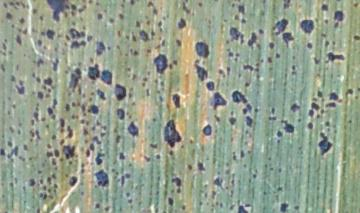tarspot: (161, 119, 183, 149), (43, 1, 69, 23), (316, 130, 333, 156), (152, 52, 168, 75), (208, 91, 227, 110), (227, 26, 246, 45), (271, 18, 289, 36), (93, 169, 110, 188), (112, 82, 128, 102), (193, 40, 210, 58), (230, 89, 248, 106), (247, 30, 261, 51), (278, 118, 295, 134), (87, 62, 100, 82), (299, 19, 315, 35), (126, 120, 140, 138), (281, 31, 295, 49), (325, 51, 345, 63), (99, 68, 113, 85), (194, 64, 208, 81), (61, 144, 75, 160), (67, 73, 78, 93), (68, 38, 87, 49), (170, 92, 182, 109), (94, 40, 105, 57), (86, 103, 100, 116), (200, 123, 213, 137), (94, 151, 105, 167), (332, 9, 345, 22), (95, 88, 107, 102), (13, 83, 26, 95), (13, 31, 23, 46), (322, 101, 337, 111), (212, 175, 224, 187), (278, 201, 290, 213), (68, 27, 81, 38), (115, 108, 126, 121), (138, 29, 149, 42), (180, 1, 191, 14), (244, 115, 254, 129), (170, 176, 182, 187), (176, 17, 187, 29), (289, 102, 300, 114), (45, 28, 55, 41), (326, 91, 339, 101), (204, 80, 215, 91), (68, 175, 78, 187), (196, 160, 206, 172), (242, 63, 254, 73), (66, 124, 73, 140), (72, 66, 82, 77), (91, 135, 102, 145), (310, 55, 321, 65), (343, 88, 354, 98), (236, 204, 248, 213), (42, 76, 53, 85), (31, 111, 40, 122), (217, 68, 226, 79), (281, 1, 292, 10), (309, 102, 320, 111), (50, 60, 58, 72), (35, 57, 44, 67), (27, 177, 36, 187), (142, 154, 152, 163), (228, 116, 237, 126), (320, 3, 329, 13), (274, 129, 284, 138), (306, 108, 315, 118), (148, 142, 159, 150), (237, 4, 245, 15), (12, 144, 19, 156), (34, 129, 41, 141), (95, 12, 104, 21), (305, 121, 314, 130), (7, 124, 15, 134), (36, 90, 44, 100), (52, 97, 60, 107), (57, 117, 65, 127), (88, 142, 96, 152), (118, 151, 126, 161), (166, 196, 174, 206), (230, 151, 238, 161), (119, 174, 125, 187), (28, 127, 35, 138), (114, 134, 121, 145), (4, 11, 13, 19), (8, 73, 16, 82), (5, 150, 13, 159), (46, 107, 55, 115), (50, 157, 58, 166), (213, 113, 221, 122), (35, 38, 42, 48), (81, 127, 88, 137), (144, 87, 151, 97), (157, 94, 164, 104), (241, 106, 248, 116), (150, 28, 155, 41), (17, 16, 25, 24), (5, 139, 13, 147), (58, 138, 66, 146), (267, 41, 275, 49), (305, 41, 313, 49), (323, 119, 331, 127), (21, 26, 28, 35), (1, 42, 8, 51), (76, 6, 85, 13), (45, 150, 54, 157), (53, 148, 60, 157), (86, 34, 93, 43), (134, 19, 141, 28), (124, 33, 131, 42), (130, 33, 137, 42), (175, 38, 182, 47), (275, 185, 284, 192), (245, 103, 252, 112), (316, 88, 323, 97), (1, 61, 6, 73), (84, 148, 90, 158), (210, 189, 216, 199), (239, 149, 245, 159), (69, 3, 77, 10), (29, 26, 37, 33), (117, 12, 124, 20), (93, 201, 100, 209), (103, 205, 111, 212), (124, 172, 132, 179), (124, 190, 131, 198), (154, 152, 161, 160), (131, 49, 139, 56), (151, 7, 158, 15), (228, 202, 235, 210), (258, 9, 266, 16), (274, 51, 281, 59), (352, 1, 359, 9), (352, 34, 360, 41), (269, 106, 276, 114), (1, 147, 6, 158), (63, 10, 69, 19), (14, 62, 20, 71), (12, 175, 18, 184), (64, 103, 70, 112), (116, 29, 122, 38), (80, 103, 86, 112), (225, 66, 231, 75), (228, 189, 234, 198), (323, 39, 329, 48), (153, 77, 158, 87), (1, 1, 8, 8), (30, 7, 37, 14), (69, 9, 76, 16), (37, 14, 44, 21), (39, 30, 46, 37), (70, 19, 77, 26), (52, 45, 59, 52), (17, 78, 24, 85), (48, 193, 55, 200), (50, 133, 57, 140), (101, 124, 108, 131), (146, 1, 153, 8), (154, 44, 161, 51), (233, 14, 240, 21), (227, 51, 234, 58), (254, 73, 261, 80), (266, 56, 273, 63), (30, 70, 36, 78), (22, 143, 28, 151), (46, 176, 52, 184), (88, 56, 94, 64), (108, 16, 114, 24), (94, 118, 100, 126), (126, 198, 134, 204), (162, 179, 168, 187), (131, 72, 137, 80), (160, 39, 166, 47), (159, 79, 165, 87), (167, 62, 173, 70), (333, 21, 339, 29), (16, 127, 21, 136), (90, 125, 95, 134), (319, 32, 328, 37), (6, 49, 12, 56), (77, 15, 84, 21), (10, 102, 16, 109), (8, 181, 14, 188), (20, 185, 26, 192), (21, 198, 27, 205), (37, 192, 43, 199), (41, 193, 47, 200), (59, 127, 65, 134), (79, 167, 85, 174), (63, 34, 70, 40), (79, 30, 85, 37), (114, 44, 120, 51), (99, 130, 106, 136), (180, 203, 186, 210), (168, 149, 174, 156), (150, 117, 157, 123), (144, 19, 151, 25), (157, 19, 163, 26), (172, 59, 178, 66), (187, 163, 193, 170), (240, 18, 247, 24), (224, 39, 231, 45), (244, 81, 250, 88), (229, 178, 236, 184), (243, 202, 250, 208), (323, 18, 329, 25), (290, 70, 297, 76), (267, 66, 274, 72), (315, 113, 322, 119), (354, 94, 360, 101), (162, 189, 167, 197), (292, 205, 300, 210), (310, 96, 318, 101), (63, 3, 69, 9), (1, 51, 7, 57), (94, 1, 100, 7), (31, 58, 37, 64), (9, 157, 15, 163), (35, 207, 41, 213), (46, 87, 52, 93), (52, 182, 58, 188), (40, 116, 46, 122), (50, 114, 56, 120), (45, 142, 51, 148), (79, 162, 85, 168), (62, 41, 68, 47), (62, 68, 68, 74), (80, 92, 86, 98), (105, 45, 111, 51), (79, 118, 85, 124), (83, 138, 89, 144), (179, 143, 185, 149), (127, 92, 133, 98), (125, 66, 131, 72), (123, 51, 129, 57), (158, 26, 164, 32), (140, 81, 146, 87), (197, 1, 203, 7), (194, 58, 200, 64), (188, 138, 194, 144), (253, 67, 259, 73), (224, 161, 230, 167), (225, 169, 231, 175), (251, 173, 257, 179), (277, 167, 283, 173), (330, 40, 336, 46), (253, 107, 259, 113), (290, 64, 296, 70), (14, 1, 21, 6), (53, 57, 60, 62), (35, 76, 40, 83), (56, 33, 63, 38), (44, 93, 51, 98), (30, 118, 35, 125), (38, 177, 43, 184), (50, 173, 57, 178), (58, 157, 65, 162), (70, 113, 75, 120), (203, 191, 208, 198), (154, 206, 159, 213), (262, 189, 267, 196), (266, 156, 273, 161), (291, 54, 296, 61), (282, 80, 287, 87), (283, 72, 288, 79), (336, 98, 343, 103), (346, 118, 353, 123), (13, 5, 19, 10), (25, 3, 30, 9), (9, 23, 15, 28), (16, 27, 22, 32), (102, 7, 107, 13), (17, 121, 23, 126), (1, 193, 6, 199), (36, 169, 42, 174), (41, 184, 46, 190), (28, 137, 34, 142), (67, 160, 73, 165), (79, 191, 85, 196), (81, 24, 86, 30), (76, 61, 82, 66), (66, 91, 72, 96), (70, 101, 75, 107), (75, 100, 80, 106), (120, 3, 125, 9), (89, 91, 95, 96), (127, 114, 133, 119), (79, 180, 84, 186), (110, 167, 115, 173), (127, 162, 133, 167), (137, 200, 143, 205), (117, 206, 122, 212), (176, 187, 181, 193), (128, 86, 134, 91), (146, 48, 151, 54), (141, 76, 147, 81), (155, 89, 161, 94), (198, 200, 203, 206), (156, 175, 161, 181), (218, 202, 223, 208), (209, 207, 215, 212), (207, 18, 212, 24), (222, 18, 228, 23), (230, 2, 235, 8), (233, 57, 238, 63), (258, 28, 263, 34), (237, 73, 242, 79), (259, 57, 264, 63), (229, 110, 234, 116), (242, 162, 247, 168), (243, 140, 249, 145), (271, 115, 276, 121), (276, 139, 281, 145), (320, 108, 325, 114), (1, 209, 8, 213), (129, 1, 136, 5), (356, 86, 360, 93), (9, 1, 14, 6), (20, 2, 25, 7), (3, 38, 8, 43), (42, 45, 47, 50), (6, 95, 11, 100), (34, 106, 39, 111), (46, 187, 51, 192), (44, 123, 49, 128), (53, 166, 58, 171), (102, 22, 107, 27), (84, 120, 89, 125), (89, 160, 94, 165), (129, 204, 134, 209), (169, 188, 174, 193), (130, 101, 135, 106), (203, 182, 208, 187), (224, 185, 229, 190), (235, 52, 240, 57), (254, 61, 259, 66), (263, 162, 268, 167), (246, 149, 251, 154), (296, 117, 301, 122), (80, 1, 88, 4), (6, 109, 10, 115), (87, 97, 93, 101), (161, 209, 167, 213), (165, 12, 169, 18), (248, 177, 252, 183), (267, 115, 271, 121), (210, 1, 221, 3), (215, 199, 218, 206), (22, 51, 26, 56), (42, 85, 46, 90), (31, 91, 35, 96), (35, 102, 40, 106), (20, 157, 25, 161), (28, 156, 32, 161), (52, 188, 56, 193), (74, 153, 78, 158), (82, 112, 86, 117), (75, 114, 79, 119), (112, 174, 117, 178), (126, 74, 131, 78), (129, 47, 133, 52), (157, 35, 162, 39), (146, 71, 151, 75), (205, 201, 209, 206), (155, 190, 159, 195), (216, 170, 221, 174), (210, 203, 215, 207), (225, 47, 230, 51), (229, 136, 233, 141), (244, 129, 248, 134), (86, 1, 92, 4), (333, 1, 342, 3), (64, 173, 68, 177), (269, 167, 273, 171), (1, 133, 4, 138), (1, 182, 4, 187), (231, 1, 244, 2), (18, 155, 21, 159), (121, 1, 127, 3), (261, 1, 266, 3), (184, 1, 190, 2)
